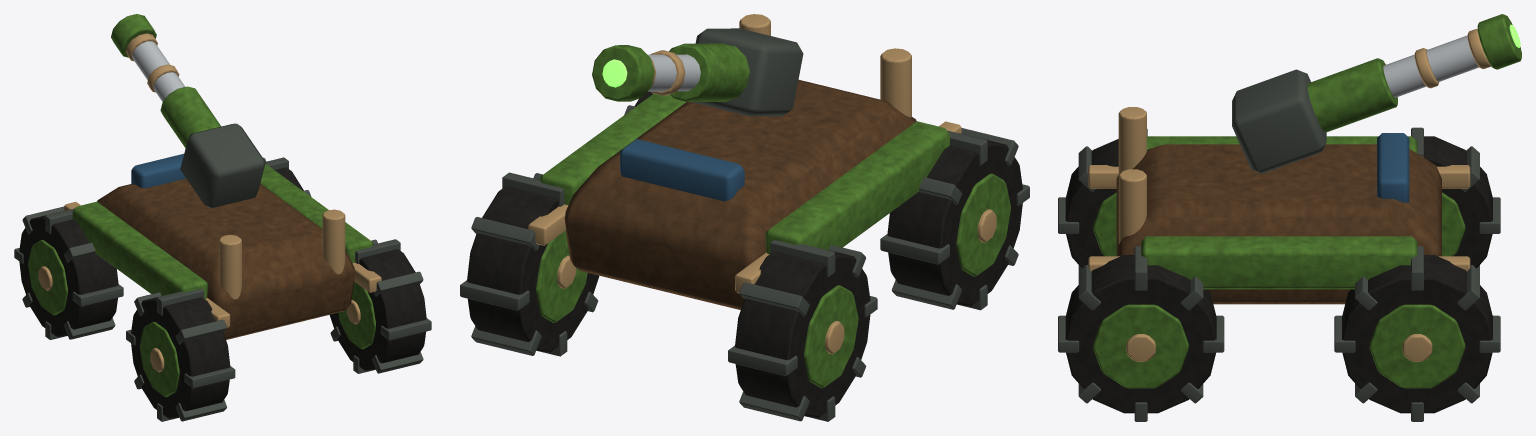
Rendered from vael_faucon.gltf.
3 views of the same model, side by side, from view 1: azimuth 30°, elevation 25°; view 2: azimuth 150°, elevation 25°; view 3: azimuth 270°, elevation 25° (orthographic). The views are drawn at different scales.
Parts seen in each view (by area): view 1: Root.023_Geometry, Wheel_-0.6554999999999999_-0.004_Geometry, Wheel_-0.6554999999999999_0.004_Geometry, Wheel_0.6554999999999999_-0.004_Geometry, GunPitch.007_Geometry, GunRecoil.004_Geometry, Wheel_0.6554999999999999_0.004_Geometry; view 2: Root.023_Geometry, Wheel_-0.6554999999999999_0.004_Geometry, Wheel_-0.6554999999999999_-0.004_Geometry, Wheel_0.6554999999999999_0.004_Geometry, GunRecoil.004_Geometry, GunPitch.007_Geometry; view 3: Root.023_Geometry, Wheel_0.6554999999999999_-0.004_Geometry, Wheel_0.6554999999999999_0.004_Geometry, GunRecoil.004_Geometry, GunPitch.007_Geometry, Wheel_-0.6554999999999999_0.004_Geometry, Wheel_-0.6554999999999999_-0.004_Geometry.
Boxes of the visible parts, <box> form: Root.023_Geometry: <box>64,153,381,339</box>; Wheel_-0.6554999999999999_-0.004_Geometry: <box>126,288,235,421</box>; Wheel_-0.6554999999999999_0.004_Geometry: <box>14,206,123,339</box>; Wheel_0.6554999999999999_-0.004_Geometry: <box>329,239,431,373</box>; GunPitch.007_Geometry: <box>180,123,265,207</box>; GunRecoil.004_Geometry: <box>111,14,221,147</box>; Wheel_0.6554999999999999_0.004_Geometry: <box>263,157,311,196</box>; Root.023_Geometry: <box>528,14,961,309</box>; Wheel_-0.6554999999999999_0.004_Geometry: <box>728,240,877,421</box>; Wheel_-0.6554999999999999_-0.004_Geometry: <box>880,128,1029,310</box>; Wheel_0.6554999999999999_0.004_Geometry: <box>460,172,599,356</box>; GunRecoil.004_Geometry: <box>592,43,749,101</box>; GunPitch.007_Geometry: <box>693,28,803,116</box>; Root.023_Geometry: <box>1088,107,1470,304</box>; Wheel_0.6554999999999999_-0.004_Geometry: <box>1058,246,1224,421</box>; Wheel_0.6554999999999999_0.004_Geometry: <box>1334,246,1500,421</box>; GunRecoil.004_Geometry: <box>1307,14,1521,132</box>; GunPitch.007_Geometry: <box>1232,69,1326,173</box>; Wheel_-0.6554999999999999_0.004_Geometry: <box>1411,127,1500,271</box>; Wheel_-0.6554999999999999_-0.004_Geometry: <box>1058,129,1147,270</box>.
Bounding box in the file's own units: 1.65 × 1.72 × 2.17.
Materials: 8 (3 with a texture image).
